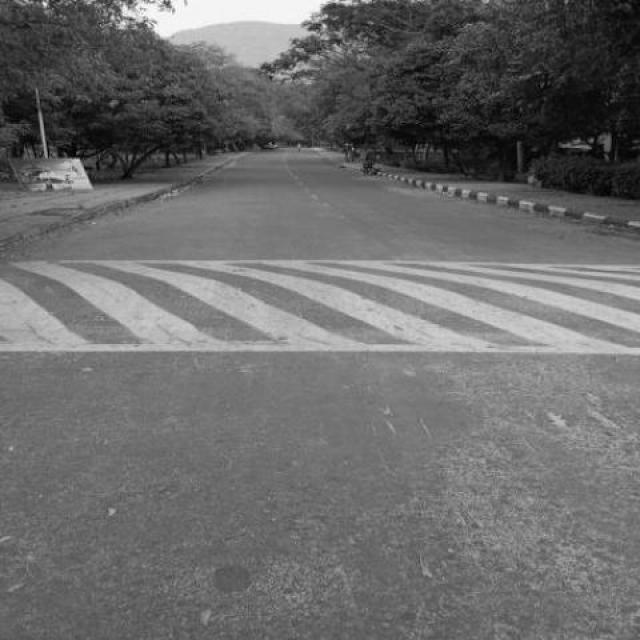Speed Bump: (0, 258, 639, 357)
